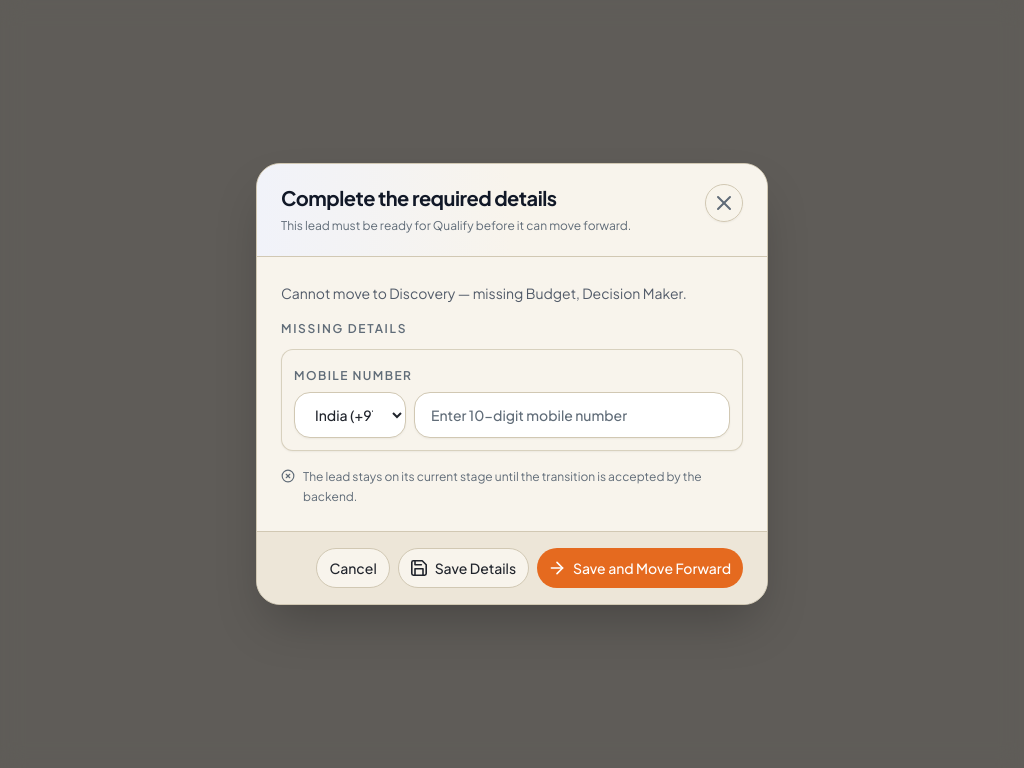
Test: StageRequirementsDialog › blocks save-and-move with an inline error when the phone is empty
Click the button "Save and Move Forward": [640, 568] box [537,548,743,588]
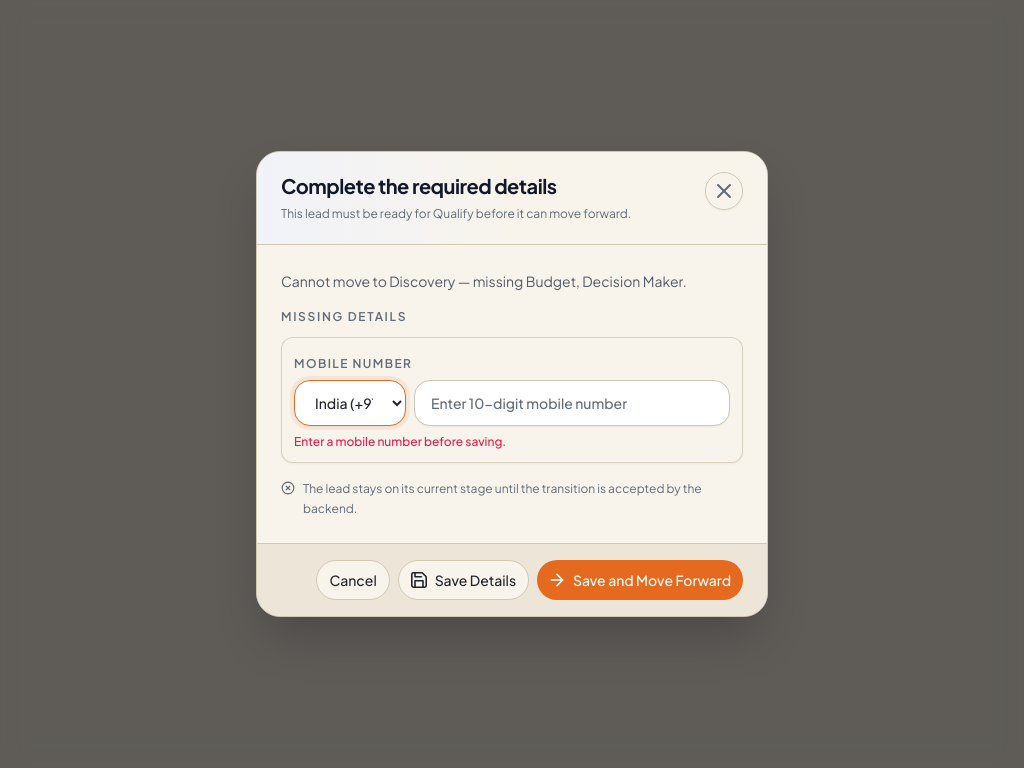
Check: the text "Enter a mobile number before saving." is shown, box [294,434,506,449]
